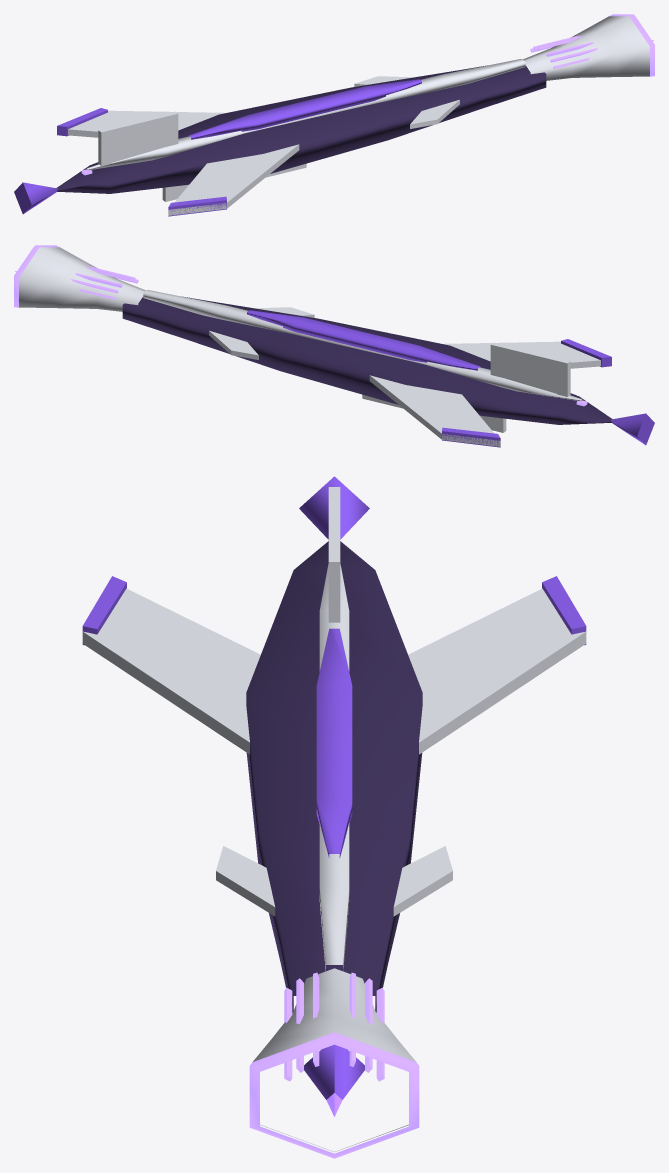
File: clarion-hadron.glb
The picture shows the model from 3 angles, top to bottom: view 1: azimuth 30°, elevation 25°; view 2: azimuth 150°, elevation 25°; view 3: azimuth 270°, elevation 25°; orthographic projection. The views are drawn at different scales.
Visible parts, largest first — view 1: blade_hull, array_horn, wing_s, blade_spine, spine_inlay, dorsal_fin, wing_p, drive_prism, canard_s, wing_edge_s, wing_edge_p, keel (+1 smaller); view 2: blade_hull, array_horn, wing_p, blade_spine, spine_inlay, dorsal_fin, wing_s, drive_prism, wing_edge_p, canard_p, wing_edge_s, keel (+1 smaller); view 3: blade_hull, wing_s, wing_p, spine_inlay, array_horn, blade_spine, array_lip, canard_s, canard_p, emitter_crystal, drive_prism, dorsal_fin (+2 smaller).
Boxes of the visible parts, bbox=[...] form: blade_hull: bbox=[56, 65, 546, 193]; array_horn: bbox=[522, 16, 649, 80]; wing_s: bbox=[168, 144, 299, 215]; blade_spine: bbox=[87, 59, 525, 170]; spine_inlay: bbox=[188, 79, 421, 139]; dorsal_fin: bbox=[98, 111, 178, 165]; wing_p: bbox=[68, 110, 225, 137]; drive_prism: bbox=[14, 182, 58, 214]; canard_s: bbox=[410, 99, 459, 128]; wing_edge_s: bbox=[168, 196, 226, 216]; wing_edge_p: bbox=[57, 108, 107, 136]; keel: bbox=[162, 163, 306, 201]; blade_hull: bbox=[122, 296, 612, 424]; array_horn: bbox=[19, 247, 146, 311]; wing_p: bbox=[369, 375, 500, 446]; blade_spine: bbox=[143, 290, 581, 401]; spine_inlay: bbox=[247, 310, 480, 370]; dorsal_fin: bbox=[490, 342, 570, 396]; wing_s: bbox=[443, 341, 600, 368]; drive_prism: bbox=[610, 413, 654, 445]; wing_edge_p: bbox=[442, 427, 500, 447]; canard_p: bbox=[209, 330, 258, 359]; wing_edge_s: bbox=[561, 339, 611, 367]; keel: bbox=[362, 394, 506, 432]; blade_hull: bbox=[246, 541, 422, 1012]; wing_s: bbox=[82, 588, 260, 754]; wing_p: bbox=[408, 588, 586, 754]; spine_inlay: bbox=[316, 628, 352, 858]; array_horn: bbox=[252, 968, 416, 1152]; blade_spine: bbox=[319, 564, 349, 970]; array_lip: bbox=[249, 1032, 419, 1158]; canard_s: bbox=[216, 846, 275, 916]; canard_p: bbox=[393, 846, 452, 916]; emitter_crystal: bbox=[304, 1044, 364, 1099]; drive_prism: bbox=[299, 476, 369, 539]; dorsal_fin: bbox=[328, 487, 340, 622].
Bounding box in the file's own units: 90 × 11.6 × 31.07.
